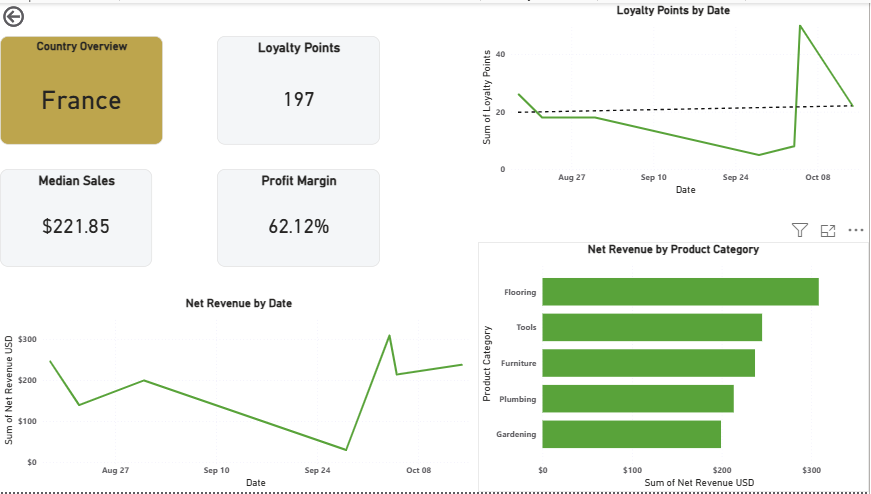

The page's visual inventory and layout, read from the dashboard file:
{"tool":"powerbi","page":{"name":"Country Overview","canvas":[1280,720],"ordinal":3},"visuals":[{"type":"actionButton","box":[0,0,100,40],"z":0},{"type":"actionButton","box":[0,0,100,40],"z":1000},{"type":"card","title":"Country Overview","fields":{"Values":["Min(Sales in USD.Country Name)"]},"box":[0,48,240,160],"z":2000},{"type":"card","title":"Loyalty Points","fields":{"Values":["Sales in USD.Total Loyalty Points"]},"box":[320,48,240,160],"z":3000},{"type":"card","title":"Median Sales","fields":{"Values":["Sales in USD.Median Sales"]},"box":[0,244,224,144],"z":4000},{"type":"card","title":"Profit Margin","fields":{"Values":["Sales in USD.Yearly Profit Margin"]},"box":[320,244,240,144],"z":5000},{"type":"lineChart","title":"Loyalty Points by Date","fields":{"Y":["Sum(Sales in USD. Loyalty Points)"],"Category":["CalendarTable.Date"]},"box":[704,0,576,288],"z":6000},{"type":"lineChart","title":"Net Revenue by Date","fields":{"Category":["CalendarTable.Date"],"Y":["Sum(Sales in USD.Net Revenue USD)"]},"box":[0,432,704,288],"z":7000},{"type":"clusteredBarChart","title":"Net Revenue by Product Category","fields":{"Category":["Sales in USD.Product Category"],"Y":["Sum(Sales in USD.Net Revenue USD)"]},"box":[704,352,576,368],"z":8000}]}

Visuals, with their boxes in screenshot pixels (x1, y1, x2, y2), scaled from the page's 1280x720 canvas onto the 871x494 screenshot:
actionButton: x1=0, y1=0, x2=68, y2=27
actionButton: x1=0, y1=0, x2=68, y2=27
"Country Overview" card: x1=0, y1=33, x2=163, y2=143
"Loyalty Points" card: x1=218, y1=33, x2=381, y2=143
"Median Sales" card: x1=0, y1=167, x2=152, y2=266
"Profit Margin" card: x1=218, y1=167, x2=381, y2=266
"Loyalty Points by Date" lineChart: x1=479, y1=0, x2=870, y2=198
"Net Revenue by Date" lineChart: x1=0, y1=296, x2=479, y2=493
"Net Revenue by Product Category" clusteredBarChart: x1=479, y1=242, x2=870, y2=493
